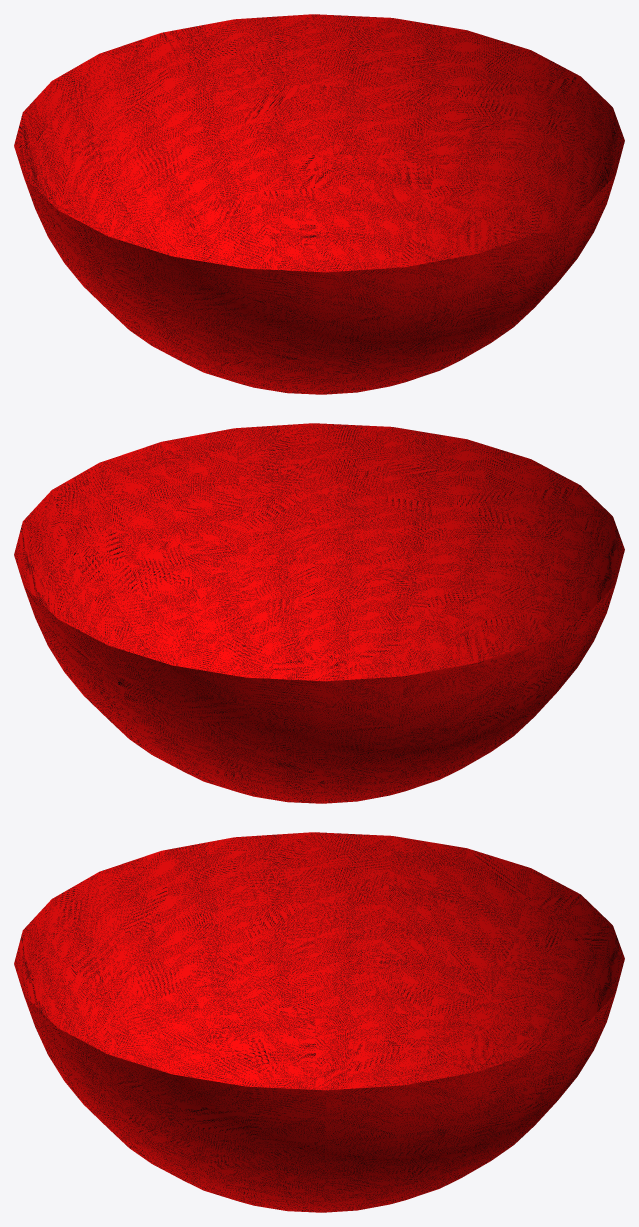
The model's file is bowl_07_origin_gt.dae.
3 renders of one model, top to bottom at view 1: azimuth 30°, elevation 25°; view 2: azimuth 150°, elevation 25°; view 3: azimuth 270°, elevation 25°, orthographic.
Parts seen in each view (by area): view 1: wooden_bowl; view 2: wooden_bowl; view 3: wooden_bowl.
Boxes of the visible parts, box(x1,y1,x2,y2) form: wooden_bowl: box(14, 14, 624, 394); wooden_bowl: box(14, 423, 624, 803); wooden_bowl: box(14, 832, 624, 1212).
Size of the model in its own units: 6.41 by 6.41 by 2.57.
